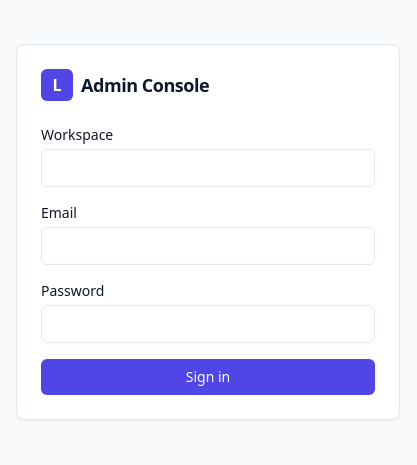
Test: Login (US1) › shows a generic error on failure (no enumeration)
In the field labelled "Workspace": (208, 168) [41,149,375,187], type "acme"
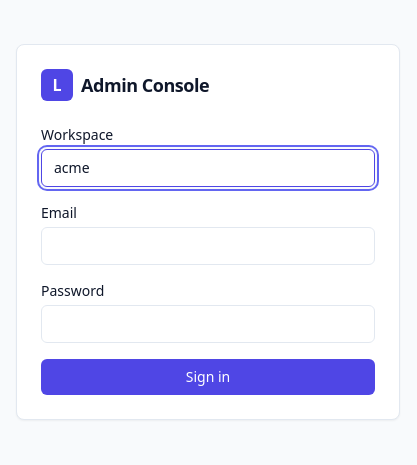
In the field labelled "Email": (208, 246) [41,227,375,265], type "x@y.z"
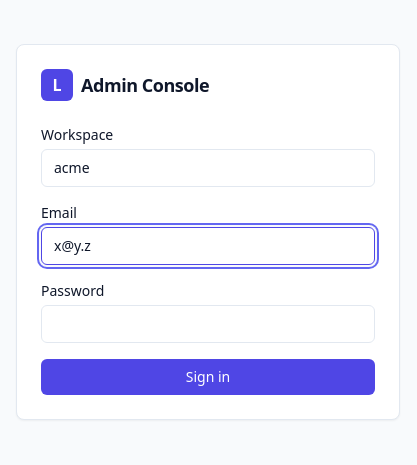
In the password field labelled "Password": (208, 324) [41,305,375,343], type "bad"
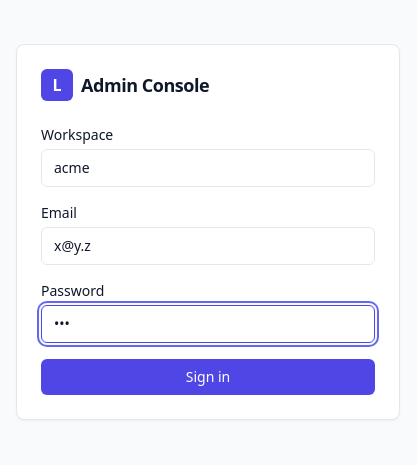
Click the button "Sign in": (208, 377) [41,359,375,395]
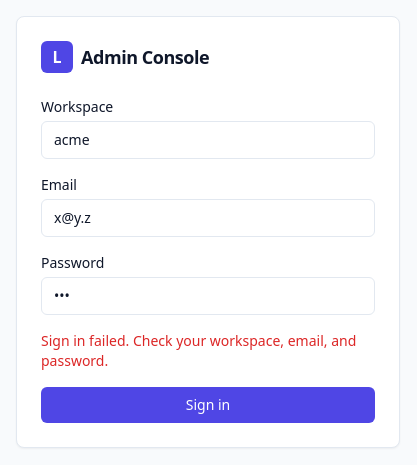
Expected: the message shows "Sign in failed", [41,331,356,370]
